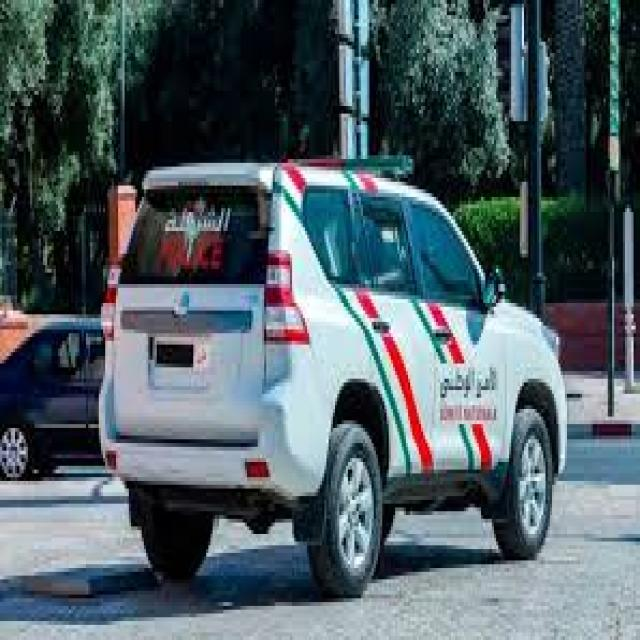police: (99, 154, 566, 596)
